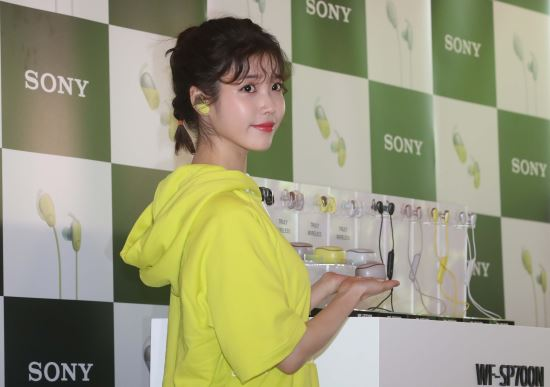earphone: (190, 85, 212, 116)
